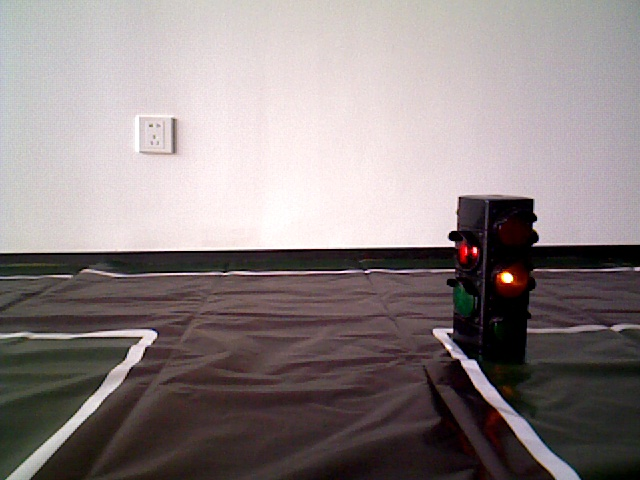yellow: (455, 194, 531, 362)
